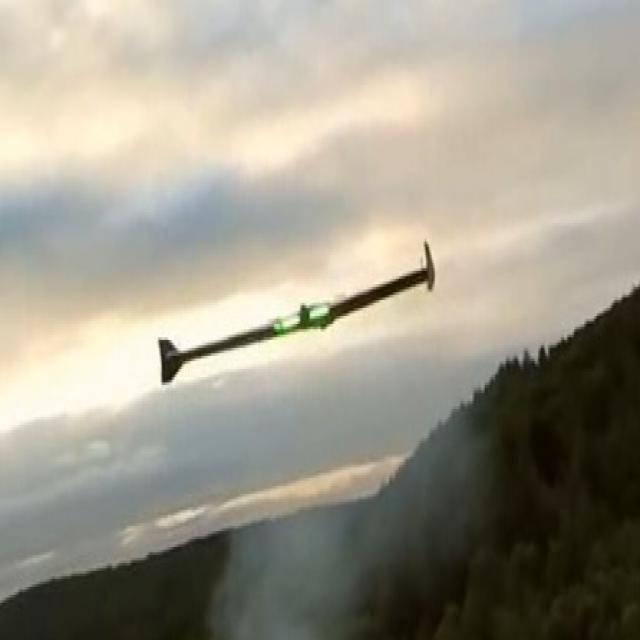Airplane: (152, 238, 447, 386)
